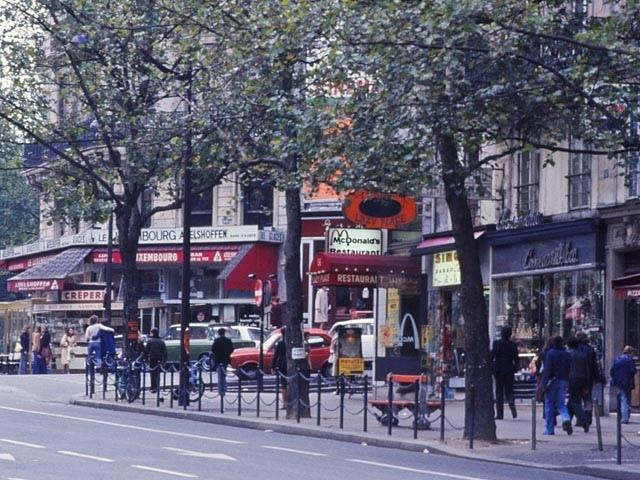non-vehicle: (172, 352, 209, 404), (113, 351, 145, 402)
